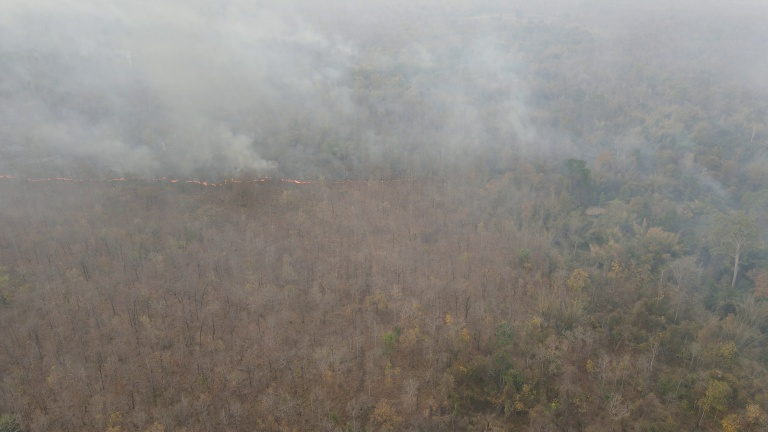fire: (1, 167, 434, 191)
smoke: (5, 1, 587, 182), (601, 1, 763, 238)
